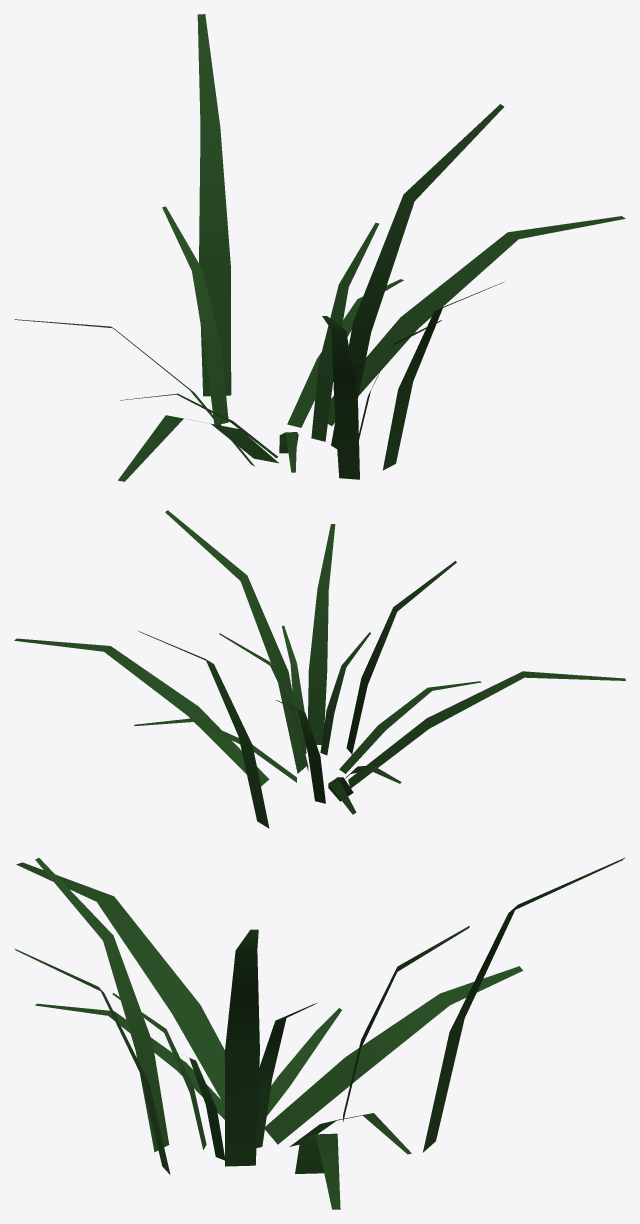
Rendered from Grass4_1.fbx.
3 views of the same model, one above another, from view 1: azimuth 30°, elevation 25°; view 2: azimuth 150°, elevation 25°; view 3: azimuth 270°, elevation 25° (orthographic). The views are drawn at different scales.
Parts seen in each view (by area): view 1: Grass; view 2: Grass; view 3: Grass.
Part boxes in pixels (<box>): Grass: <box>14,14,625,481</box>; Grass: <box>14,510,625,828</box>; Grass: <box>14,857,625,1209</box>.
Bounding box in the file's own units: 195 × 89.31 × 145.
